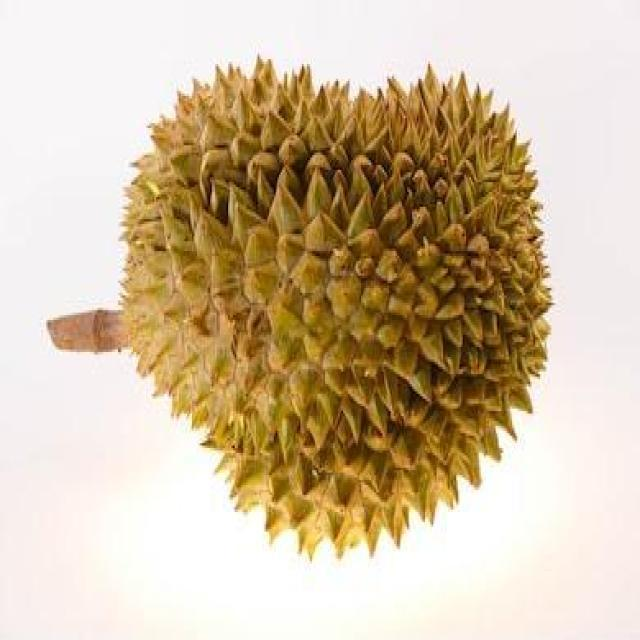mature: (124, 60, 551, 554)
